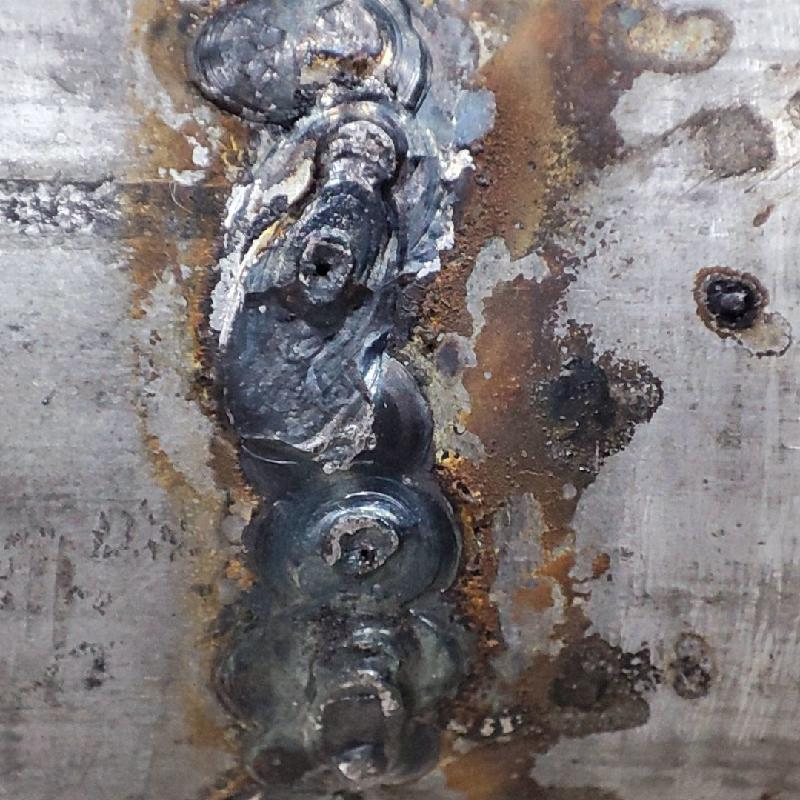Surface_pores: (327, 515, 394, 578), (301, 233, 353, 300)
wrong_size: (196, 2, 465, 785)
